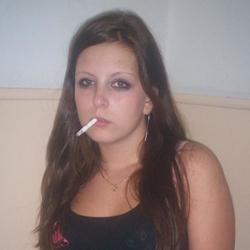smoking: (74, 116, 116, 139)
